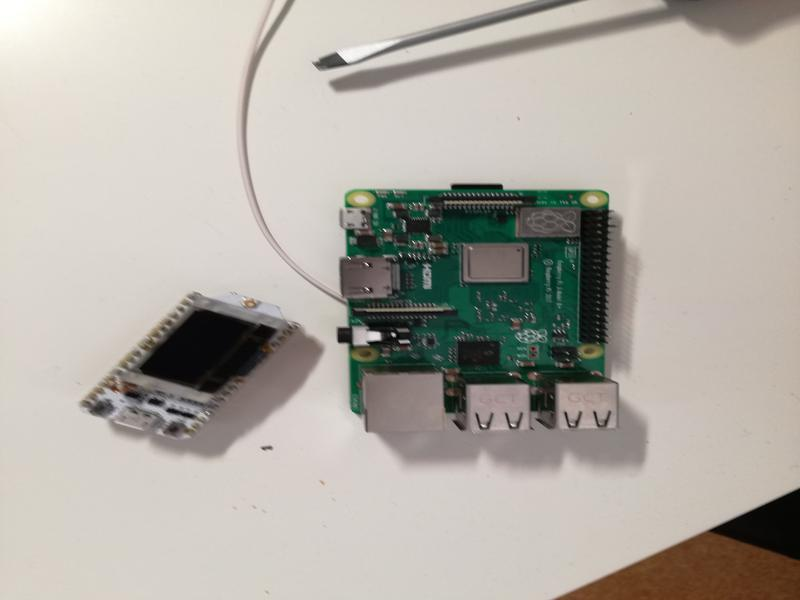Heltec_ESP32_Lora: (75, 289, 302, 445)
Raspberry_Pi_3: (340, 179, 628, 443)
